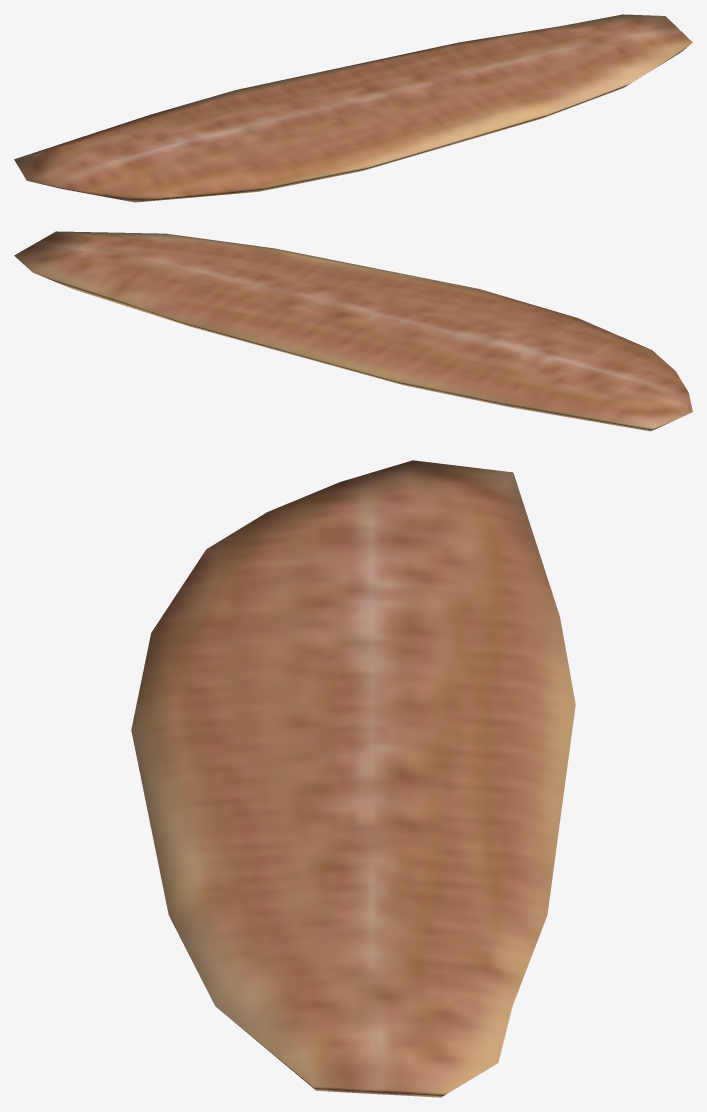
Rendered from Dried_FishFillet.fbx.
3 renders of one model, top to bottom at view 1: azimuth 30°, elevation 25°; view 2: azimuth 150°, elevation 25°; view 3: azimuth 270°, elevation 25°, orthographic. The views are drawn at different scales.
Visible parts, largest first — view 1: FishFillet; view 2: FishFillet; view 3: FishFillet.
Part boxes in pixels (x1,y1,x2,y2): FishFillet: [14, 14, 692, 202]; FishFillet: [14, 231, 692, 431]; FishFillet: [131, 460, 575, 1097].
Bounding box in the file's own units: 21.32 × 0.5702 × 6.33.
